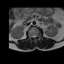CCS_normal: (33, 34, 35, 39)
LFS_normal: (36, 34, 38, 37)
LLS_normal: (35, 34, 36, 38)
RFS_normal: (31, 34, 32, 39)
RLS_normal: (32, 34, 33, 38)
